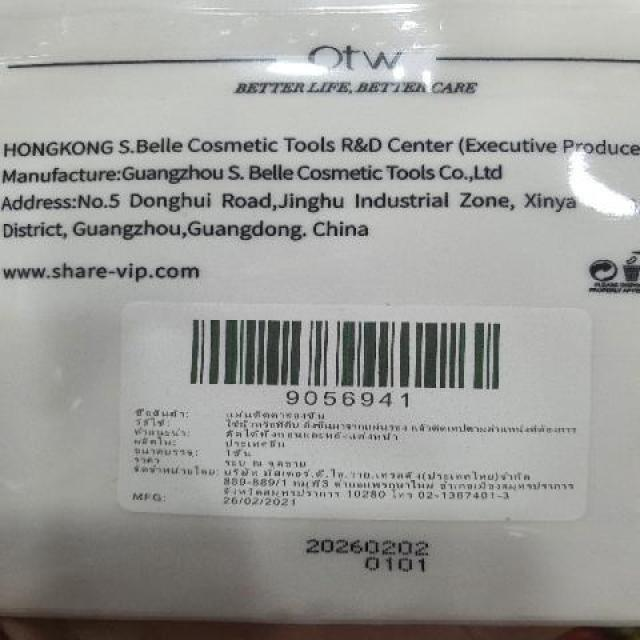Barcode: (178, 309, 522, 408)
